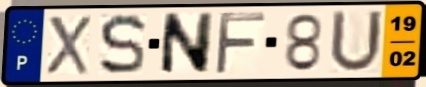8: (283, 12, 325, 73)
F: (212, 10, 268, 77)
N: (157, 11, 216, 77)
S: (97, 12, 149, 77)
U: (326, 8, 385, 76)
X: (44, 14, 93, 76)
